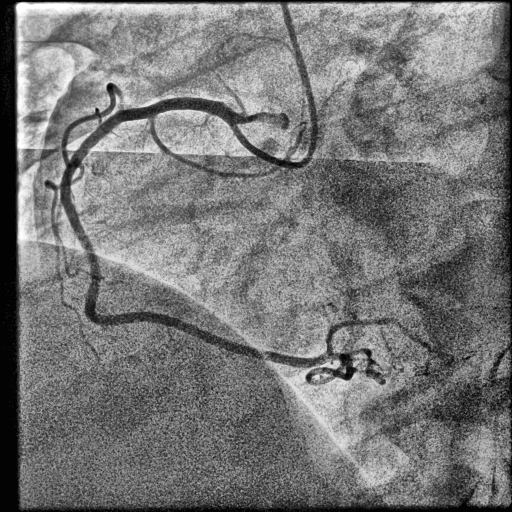pborca: (326, 318, 431, 355)
rca: (61, 97, 333, 368)
